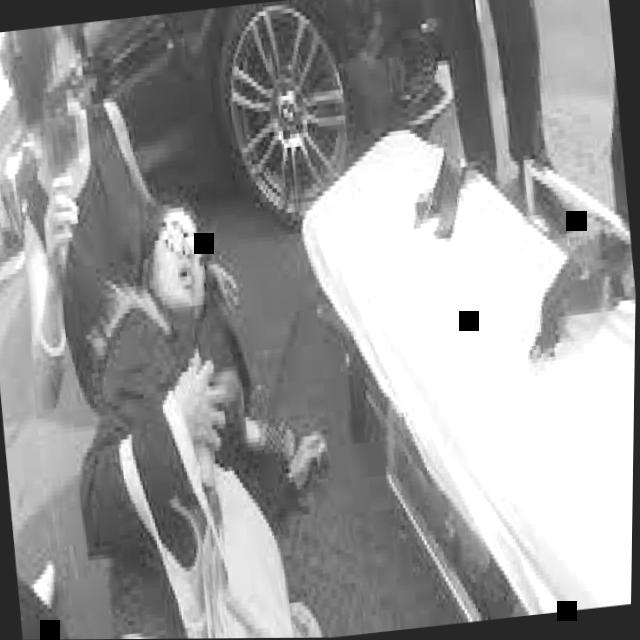Fall-Detected: (14, 126, 363, 640)
